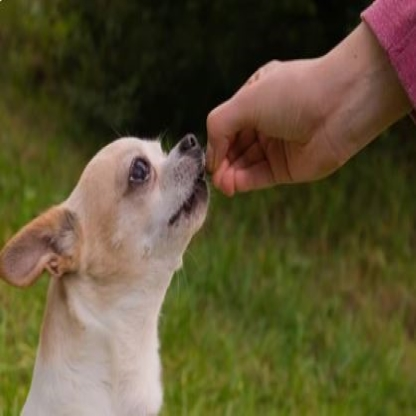chihuahua: (3, 130, 213, 416)
